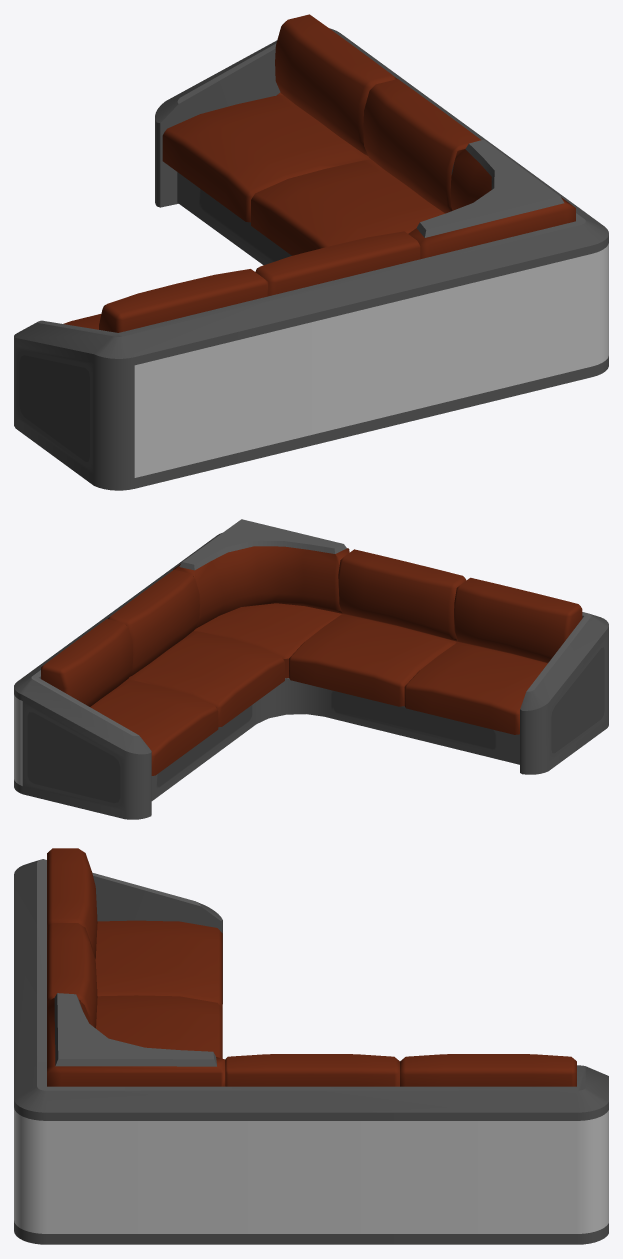
The model's file is sofa_000.fbx.
3 renders of one model, top to bottom at view 1: azimuth 30°, elevation 25°; view 2: azimuth 150°, elevation 25°; view 3: azimuth 270°, elevation 25°, orthographic. The views are drawn at different scales.
Visible parts, largest first — view 1: spin4_low (×4); view 2: spin4_low (×4); view 3: spin4_low (×4).
Part boxes in pixels (box(x1,y1,x2,y2)): spin4_low (×4): box(14, 14, 608, 490); spin4_low (×4): box(14, 519, 608, 819); spin4_low (×4): box(14, 848, 608, 1244).
Bounding box in the file's own units: 322 × 99.76 × 322.
